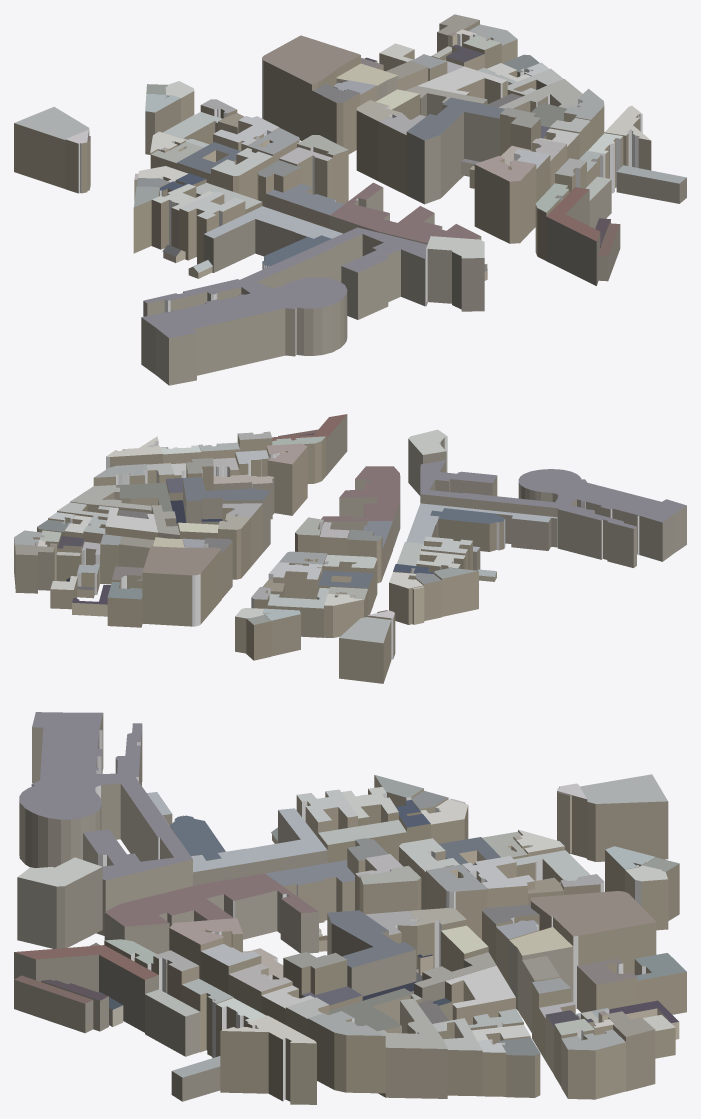
3 renders of one model, top to bottom at view 1: azimuth 30°, elevation 25°; view 2: azimuth 150°, elevation 25°; view 3: azimuth 270°, elevation 25°, orthographic. The views are drawn at different scales.
Visible parts, largest first — view 1: tuile; view 2: tuile; view 3: tuile.
Part boxes in pixels (x1,y1,x2,y2): tuile: [14, 14, 686, 385]; tuile: [14, 414, 686, 683]; tuile: [14, 712, 686, 1104].
Size of the model in its own units: 317 by 36.75 by 268.
